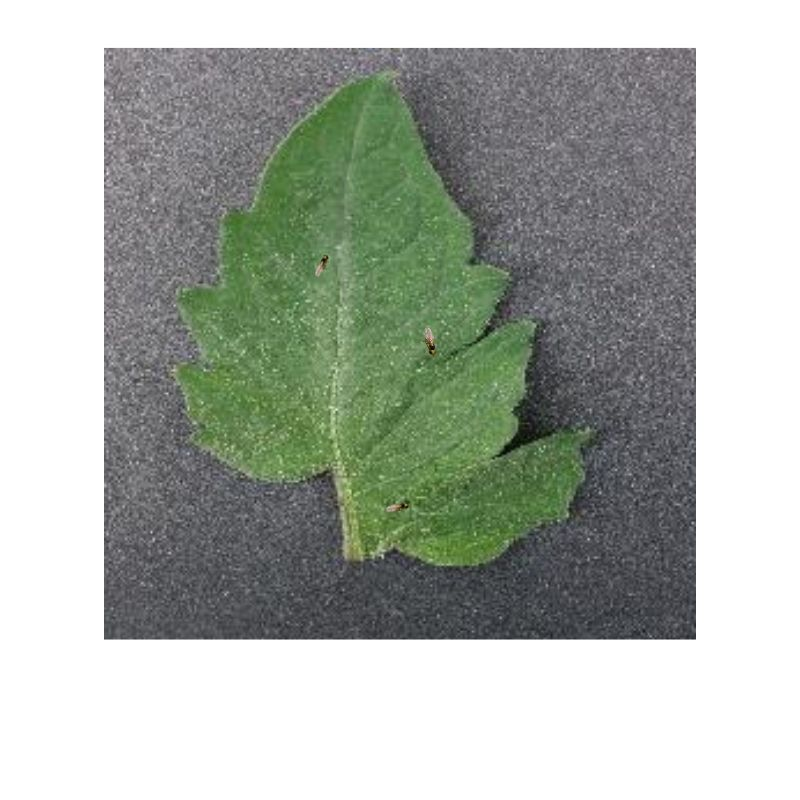liriomyza: (422, 325, 437, 356), (312, 250, 329, 277), (385, 500, 408, 513)
